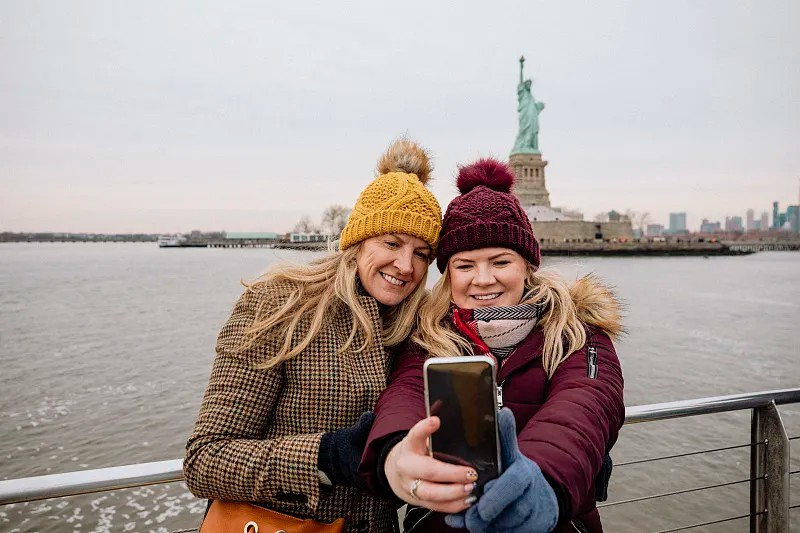SL: (508, 55, 551, 207)
